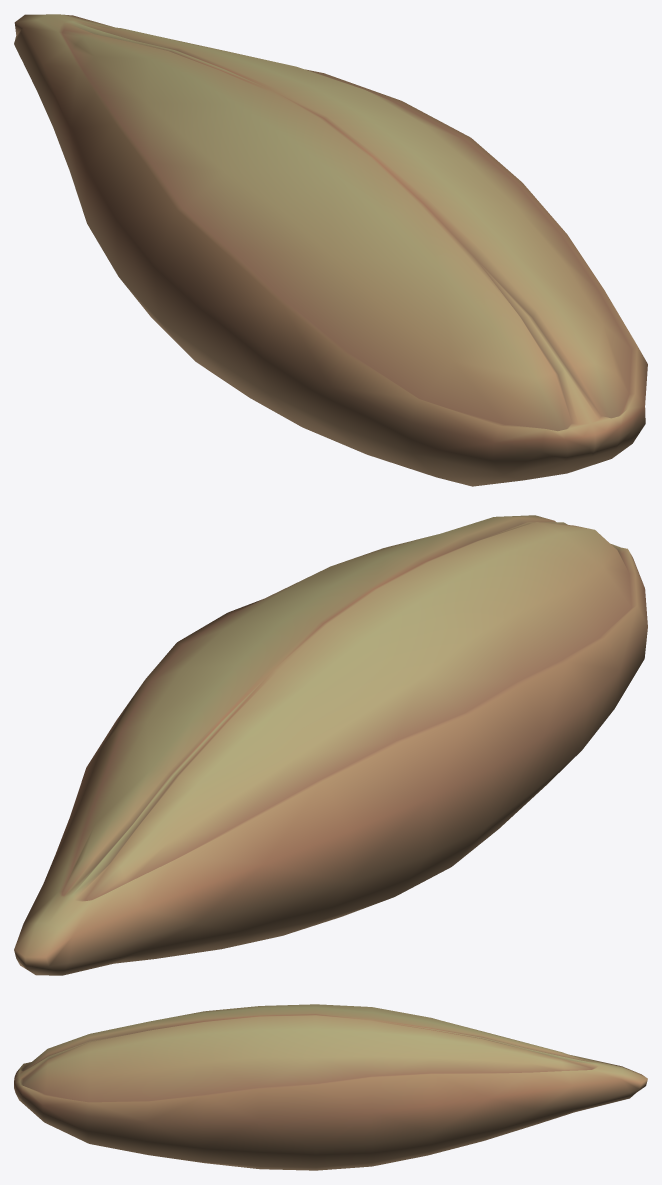
3 renders of one model, top to bottom at view 1: azimuth 30°, elevation 25°; view 2: azimuth 150°, elevation 25°; view 3: azimuth 270°, elevation 25°, orthographic. The views are drawn at different scales.
Visible parts, largest first — view 1: alt3.304; view 2: alt3.304; view 3: alt3.304.
Part boxes in pixels (x1,y1,x2,y2): alt3.304: (14, 14, 647, 486); alt3.304: (14, 515, 647, 975); alt3.304: (14, 1004, 647, 1170).
Bounding box in the file's own units: 0.172 × 0.1255 × 0.5.
